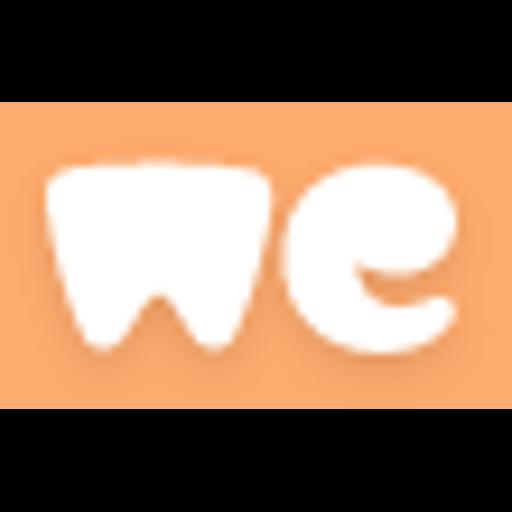WeTransfer: (0, 102, 512, 409)
